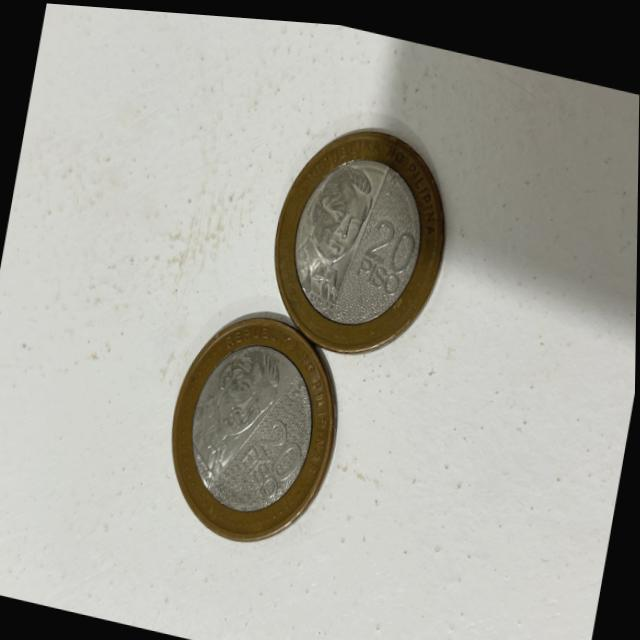20_New_Front: (234, 393, 322, 508), (347, 200, 418, 305)
